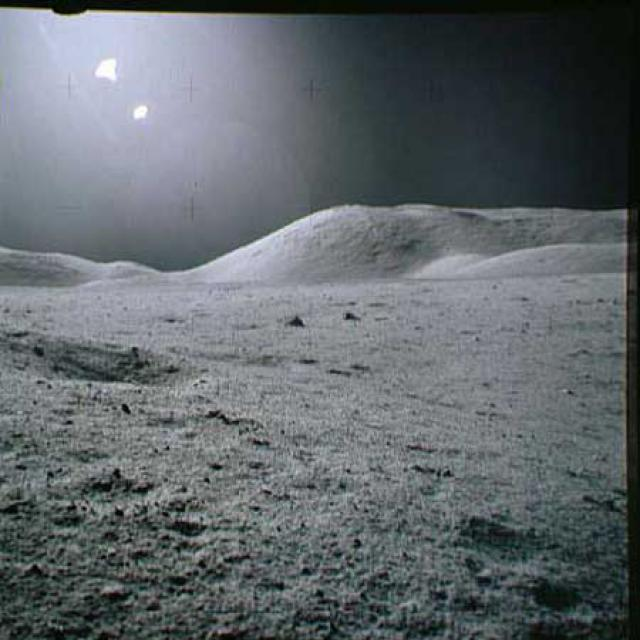crater: (17, 335, 200, 397), (200, 344, 308, 372)
rock: (285, 309, 306, 329), (337, 304, 356, 320)
